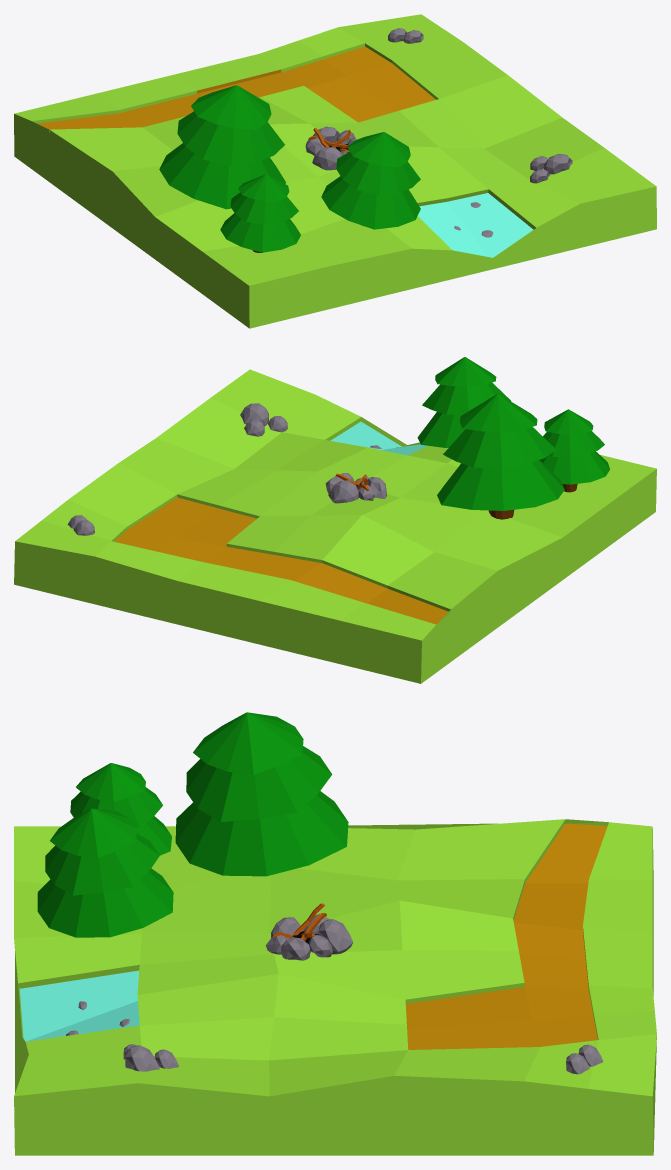
3 renders of one model, top to bottom at view 1: azimuth 30°, elevation 25°; view 2: azimuth 150°, elevation 25°; view 3: azimuth 270°, elevation 25°, orthographic. The views are drawn at different scales.
Parts seen in each view (by area): view 1: Cube.002, Cylinder.002, Cylinder, Cylinder.001, Icosphere; view 2: Cube.002, Cylinder.002, Cylinder, Cylinder.001, Icosphere.005; view 3: Cube.002, Cylinder.002, Cylinder, Cylinder.001, Icosphere.005, Icosphere.002.
Boxes of the visible parts, bbox=[...] form: Cube.002: bbox=[14, 14, 656, 328]; Cylinder.002: bbox=[159, 85, 285, 209]; Cylinder: bbox=[321, 132, 420, 229]; Cylinder.001: bbox=[220, 174, 300, 252]; Icosphere: bbox=[312, 147, 341, 170]; Cube.002: bbox=[14, 369, 656, 683]; Cylinder.002: bbox=[437, 394, 564, 519]; Cylinder: bbox=[417, 357, 510, 447]; Cylinder.001: bbox=[540, 409, 609, 492]; Icosphere.005: bbox=[328, 480, 358, 503]; Cube.002: bbox=[14, 819, 656, 1155]; Cylinder.002: bbox=[175, 712, 348, 876]; Cylinder: bbox=[37, 808, 173, 937]; Cylinder.001: bbox=[70, 763, 171, 855]; Icosphere.005: bbox=[318, 919, 353, 954]; Icosphere.002: bbox=[125, 1045, 159, 1071].
Size of the model in its own units: 2.57 by 0.9787 by 2.58.
